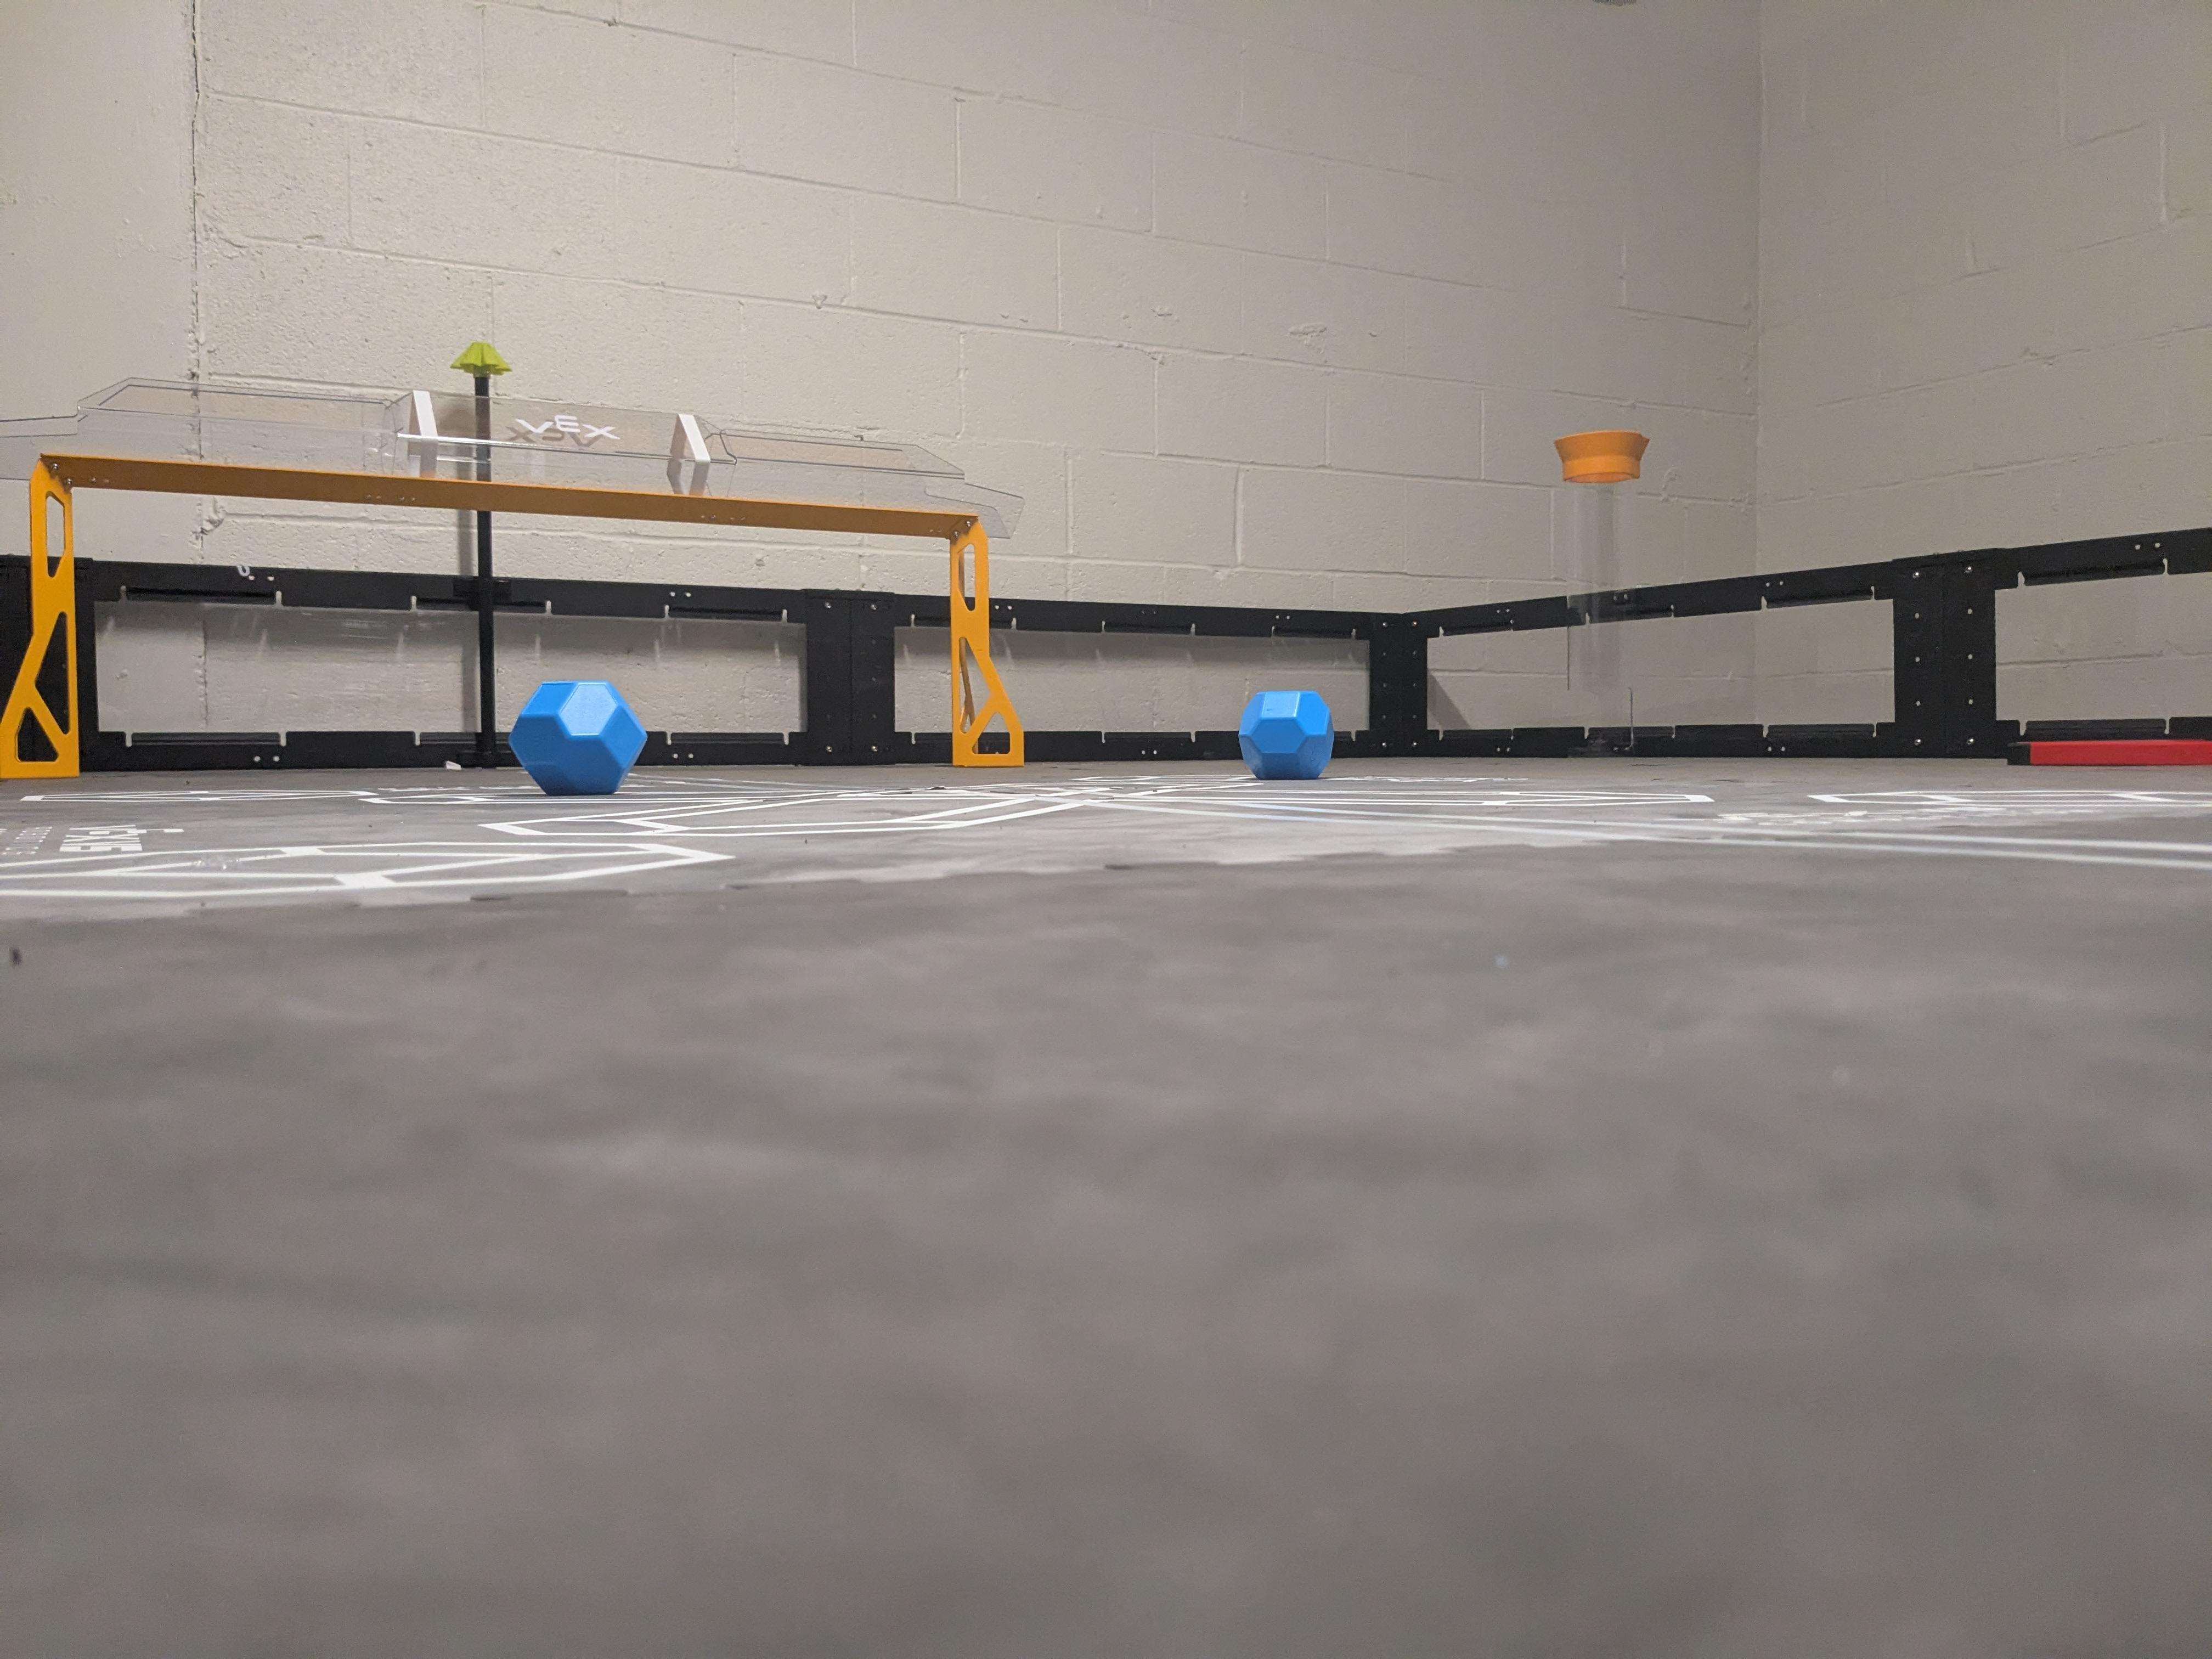Vex-Pieces-BLUE: (507, 681, 643, 793), (1240, 692, 1334, 774)
